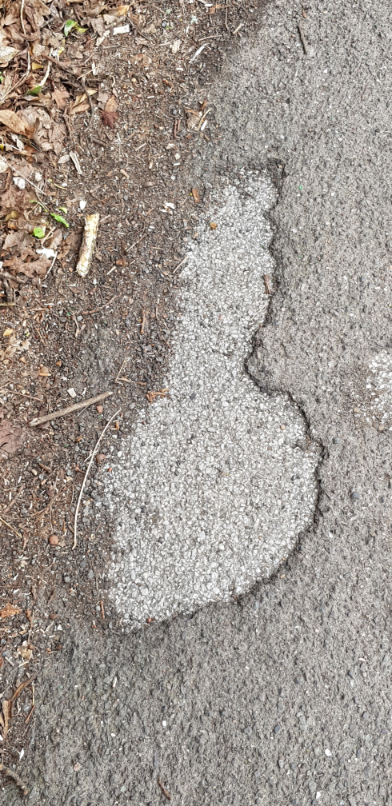pothole: (74, 152, 328, 644)
